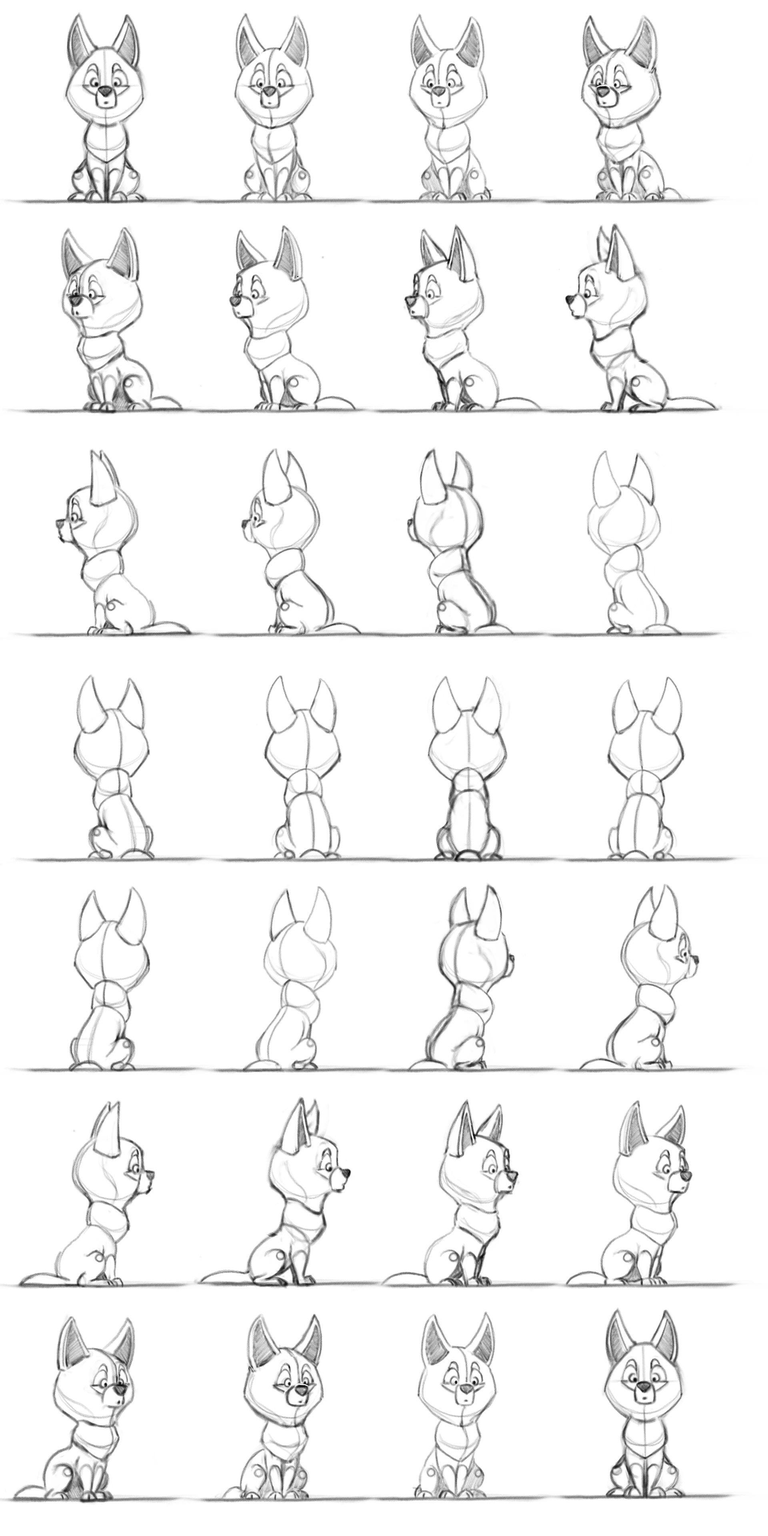puppy-dog: (563, 221, 721, 415), (196, 1095, 352, 1288), (403, 222, 544, 414), (380, 1097, 520, 1289), (16, 1098, 157, 1288), (54, 447, 193, 637), (563, 1098, 694, 1289), (228, 223, 358, 414), (10, 1315, 137, 1504), (578, 882, 701, 1075), (59, 225, 184, 414), (240, 447, 363, 637), (407, 882, 517, 1075), (405, 445, 515, 637), (218, 1312, 326, 1502), (580, 13, 685, 204), (242, 883, 340, 1074), (585, 448, 682, 638), (405, 12, 494, 204), (602, 1306, 688, 1502), (64, 14, 152, 204), (412, 1310, 499, 1502), (72, 673, 158, 863), (66, 884, 152, 1073), (426, 673, 509, 863), (233, 12, 315, 204), (262, 672, 344, 863), (605, 674, 686, 864)
